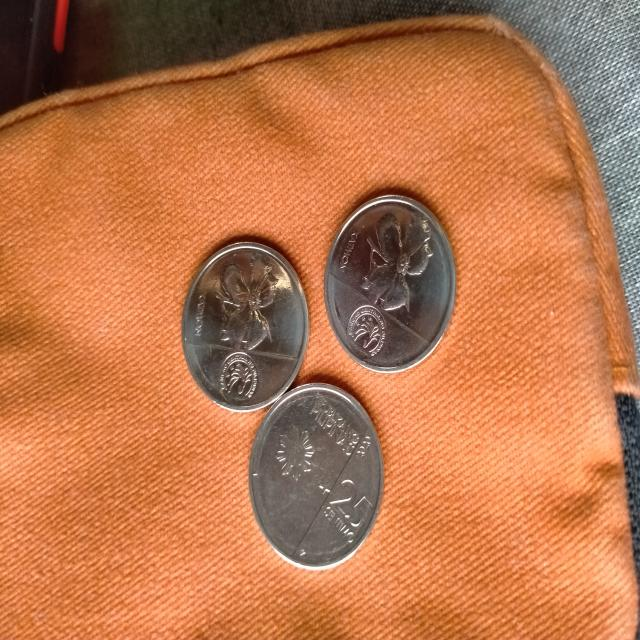25Cent_New_Back: (195, 248, 279, 346), (351, 207, 421, 309)
25Cent_New_Front: (322, 476, 371, 544)
